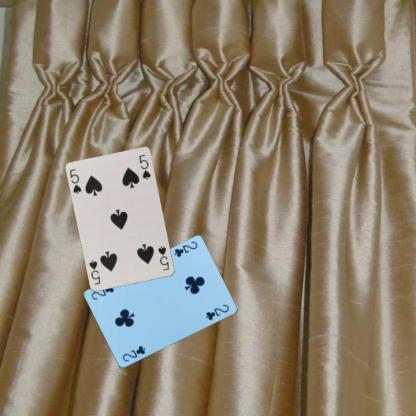2c: (120, 343, 146, 363), (172, 238, 198, 258)
5s: (67, 166, 83, 196), (156, 243, 170, 272)
